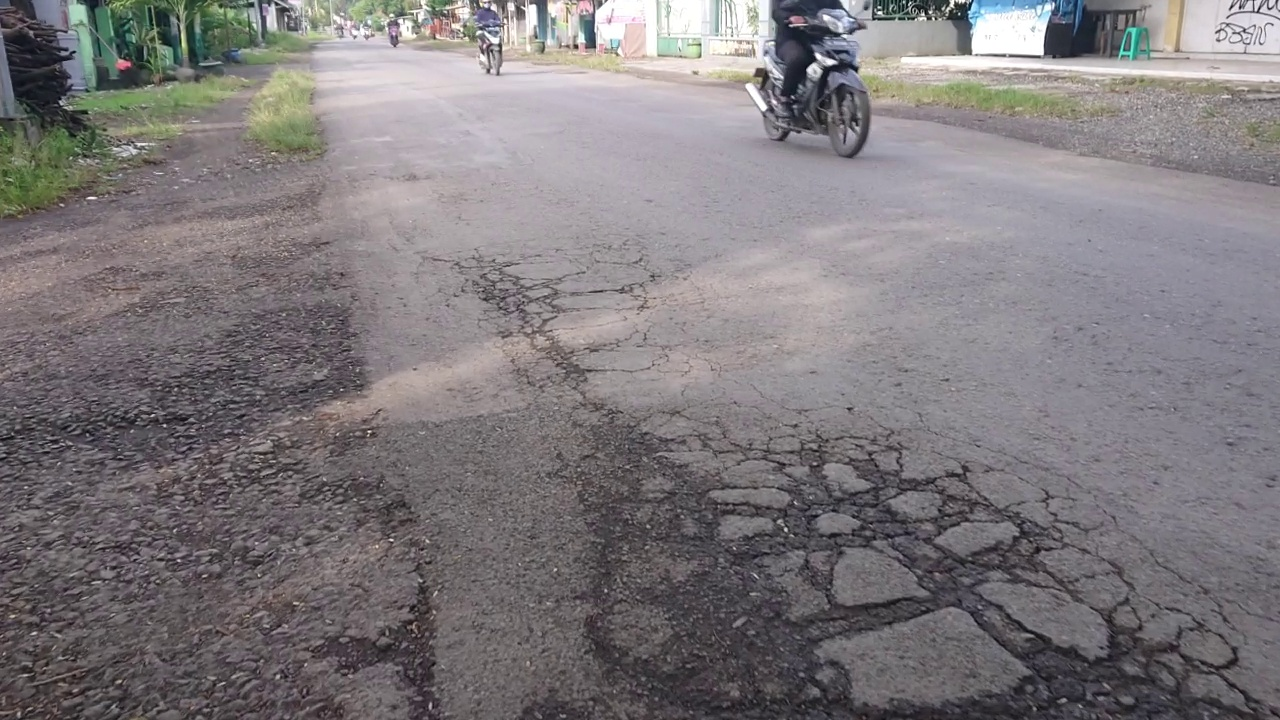Retak: (604, 451, 1235, 720), (481, 274, 692, 449)
